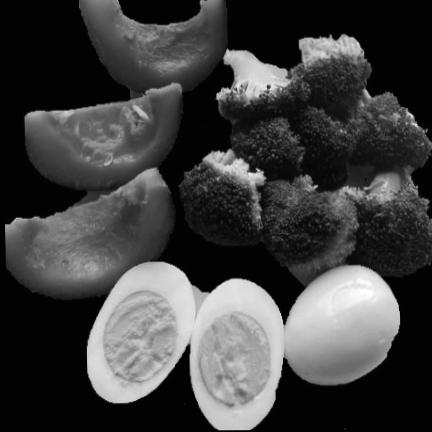broccoli: (176, 35, 432, 287)
egg: (90, 264, 399, 430)
